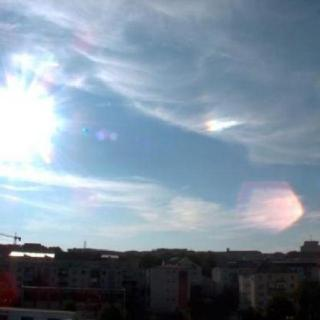Cirrus: (0, 0, 320, 237)
